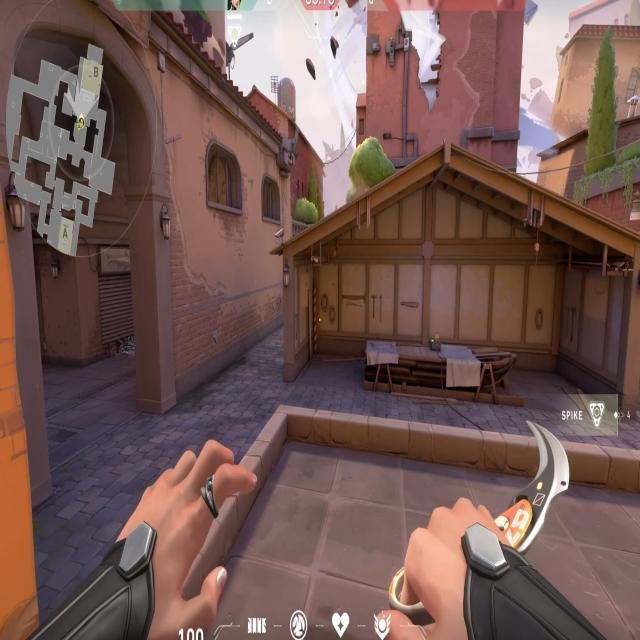B_Garage_Left: (271, 229, 403, 421)
Throwables: (202, 135, 248, 218), (258, 168, 285, 228)
